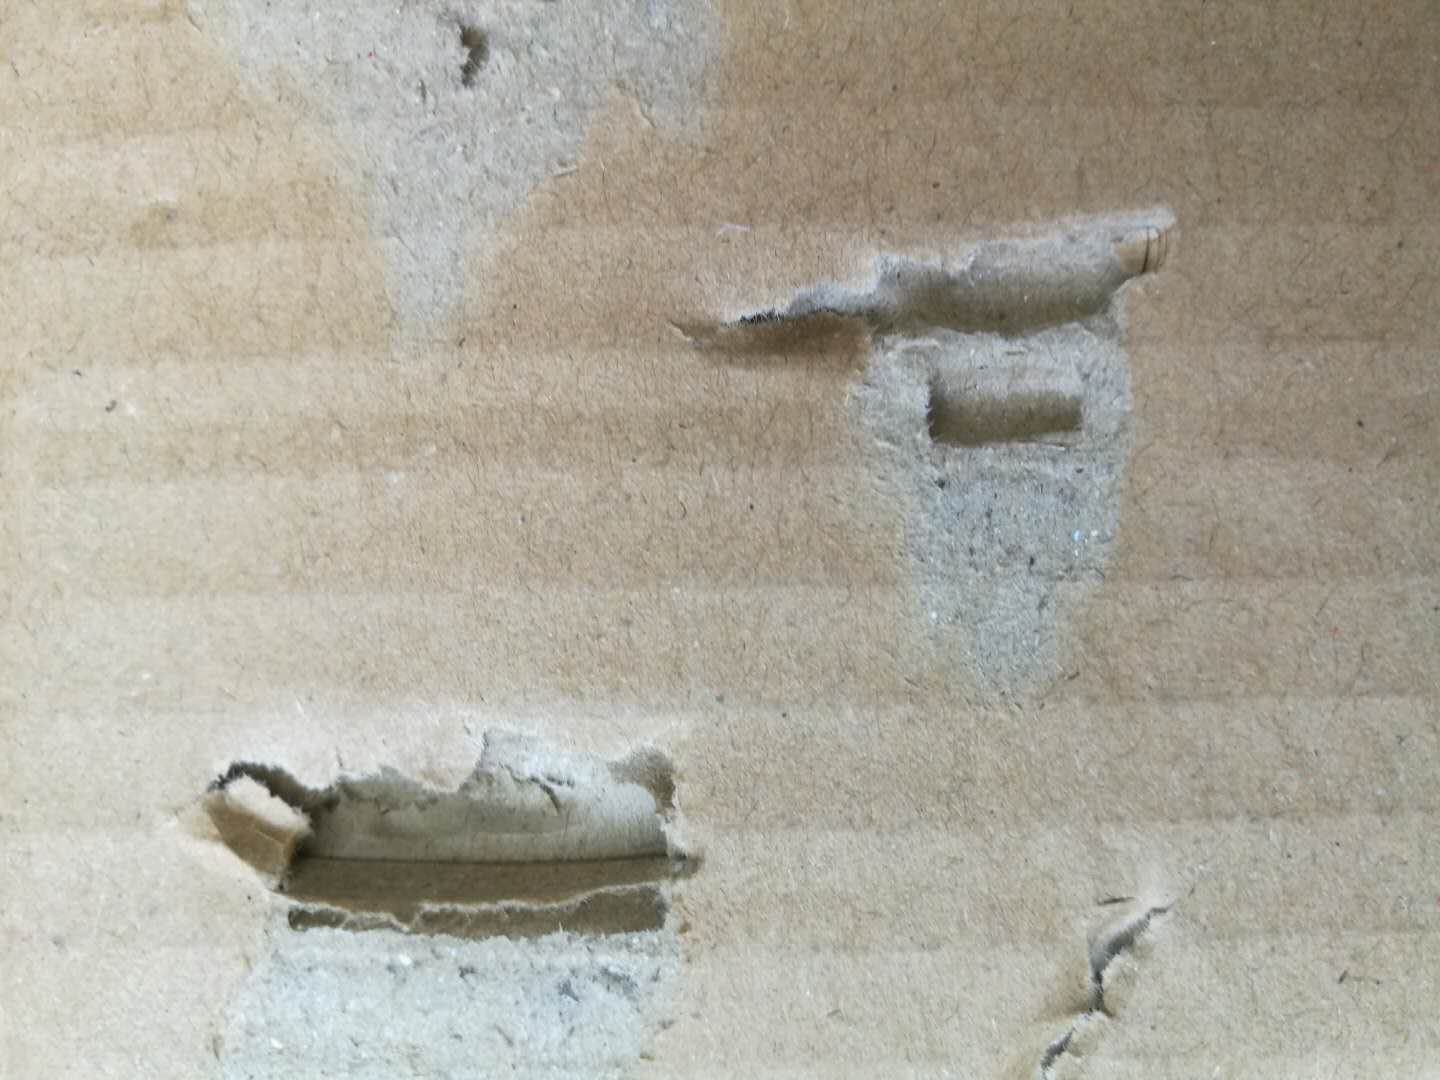defect: (654, 180, 1233, 725), (154, 1, 794, 400), (118, 680, 754, 1080), (951, 826, 1234, 1080)
